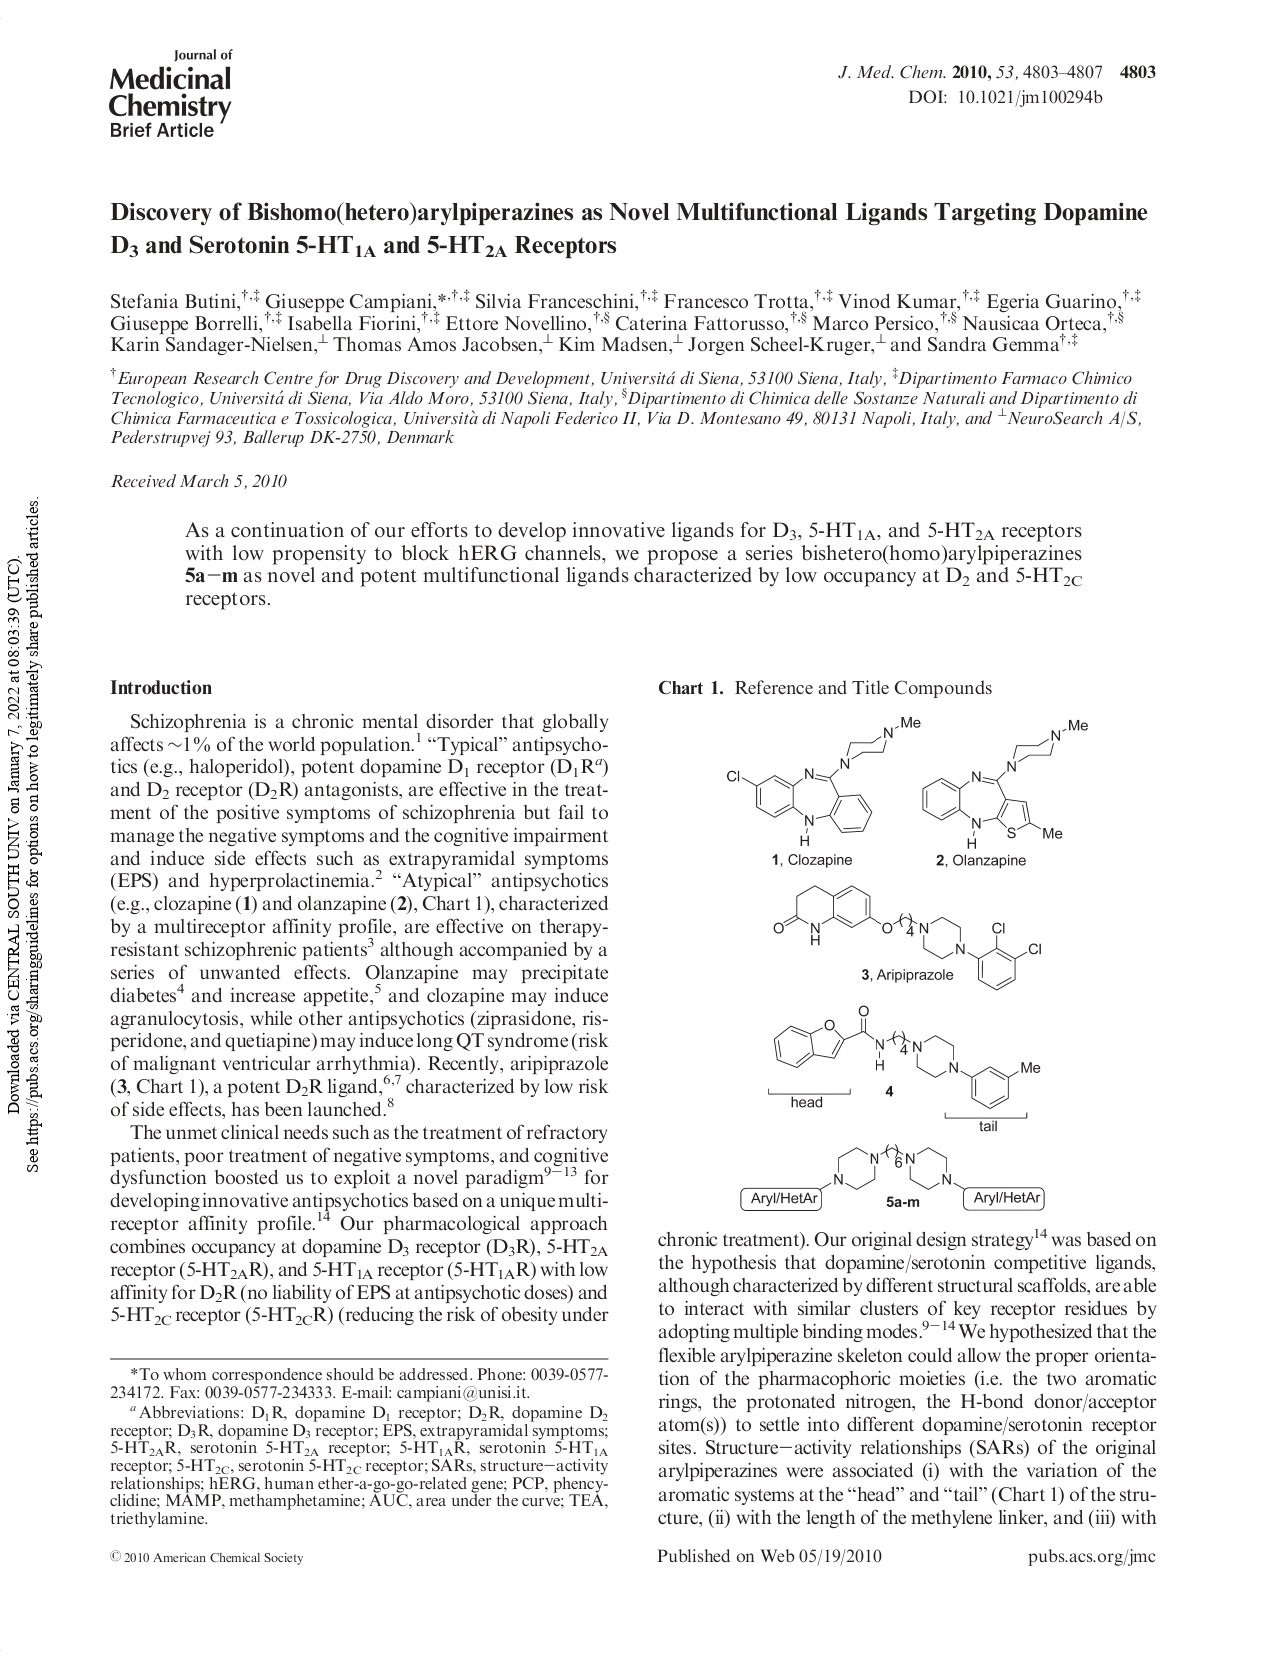exist_molecular: (773, 882, 1044, 992), (774, 1005, 1043, 1108), (726, 711, 923, 848), (920, 715, 1092, 850), (738, 1142, 1047, 1214)
